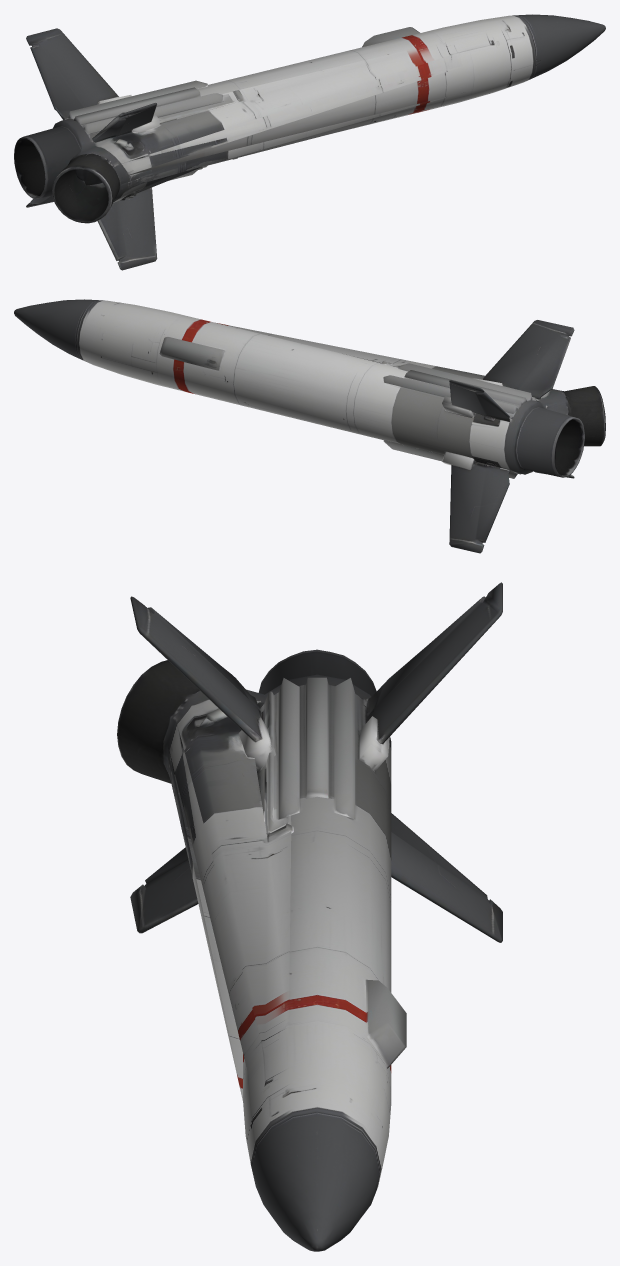
The model's file is missile.glb.
3 views of the same model, one above another, from view 1: azimuth 30°, elevation 25°; view 2: azimuth 150°, elevation 25°; view 3: azimuth 270°, elevation 25° (orthographic). The views are drawn at different scales.
Visible parts, largest first — view 1: tripo_node_dc120610-f987-4572-b8f5-21799183c142; view 2: tripo_node_dc120610-f987-4572-b8f5-21799183c142; view 3: tripo_node_dc120610-f987-4572-b8f5-21799183c142.
Boxes of the visible parts, x1,y1,x2,y2 form: tripo_node_dc120610-f987-4572-b8f5-21799183c142: (14, 14, 605, 270); tripo_node_dc120610-f987-4572-b8f5-21799183c142: (14, 299, 605, 553); tripo_node_dc120610-f987-4572-b8f5-21799183c142: (117, 582, 502, 1251).
Size of the model in its own units: 0.9995 by 0.2837 by 0.2974.
1 material, 1 textured.
